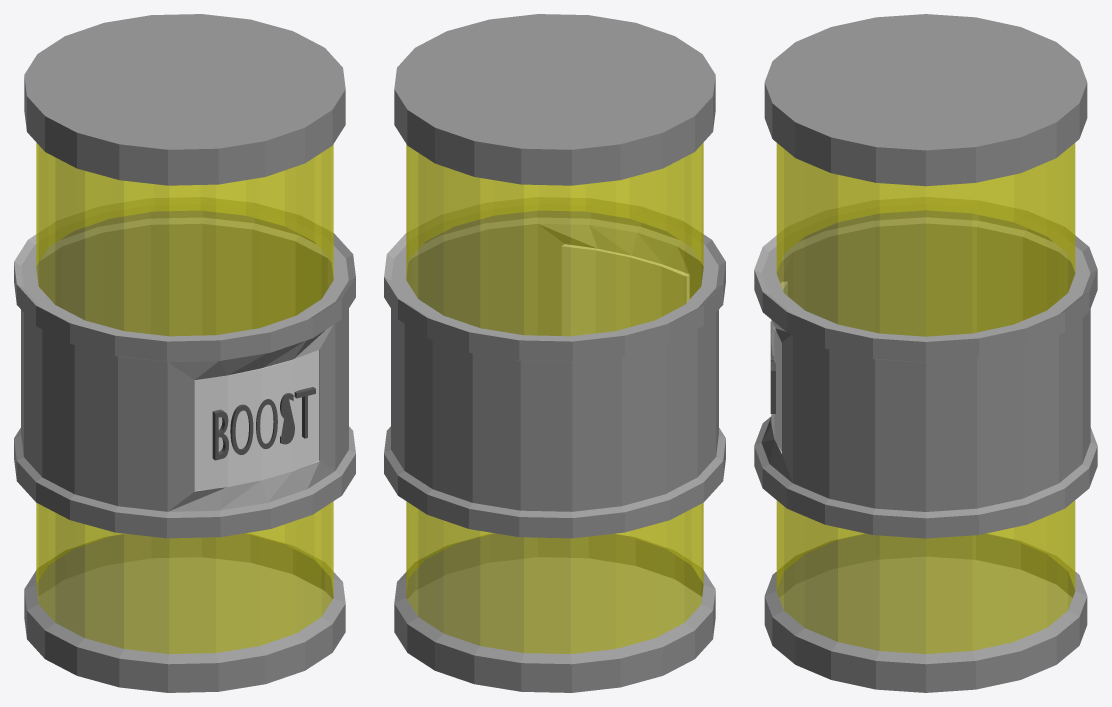
Rendered from boost.fbx.
3 views of the same model, side by side, from view 1: azimuth 30°, elevation 25°; view 2: azimuth 150°, elevation 25°; view 3: azimuth 270°, elevation 25° (orthographic).
Visible parts, largest first — view 1: pCylinder1, pCylinder2, typeMesh1; view 2: pCylinder1, pCylinder2; view 3: pCylinder1, pCylinder2.
Part boxes in pixels (x1,y1,x2,y2): pCylinder1: [14, 14, 355, 692]; pCylinder2: [36, 143, 333, 653]; typeMesh1: [212, 387, 315, 460]; pCylinder1: [384, 14, 725, 692]; pCylinder2: [406, 143, 703, 653]; pCylinder1: [754, 14, 1097, 692]; pCylinder2: [771, 143, 1074, 653].
Bounding box in the file's own units: 1.09 × 1.89 × 1.09.
